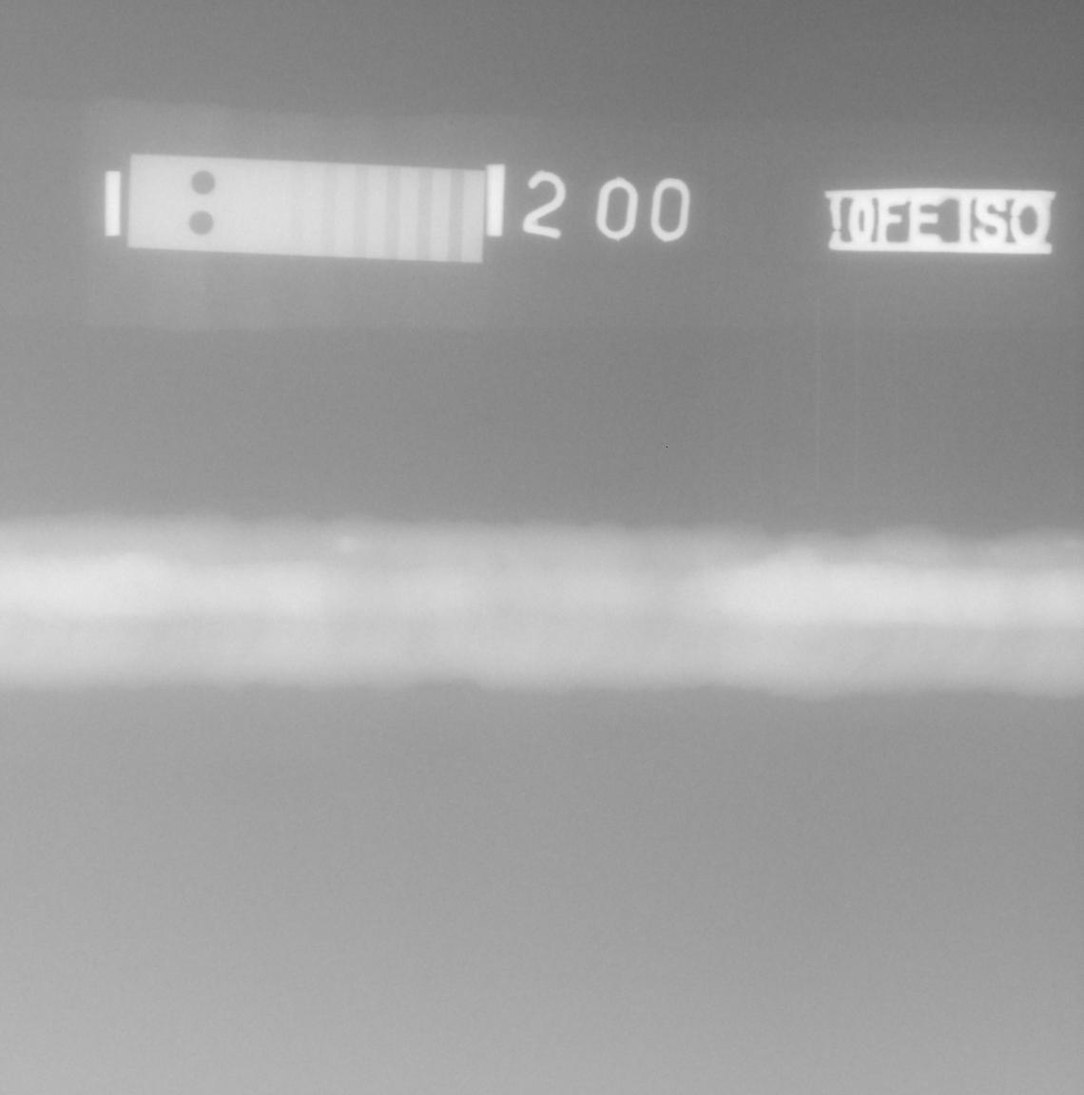Reference Standard 2: (127, 153, 486, 264)
